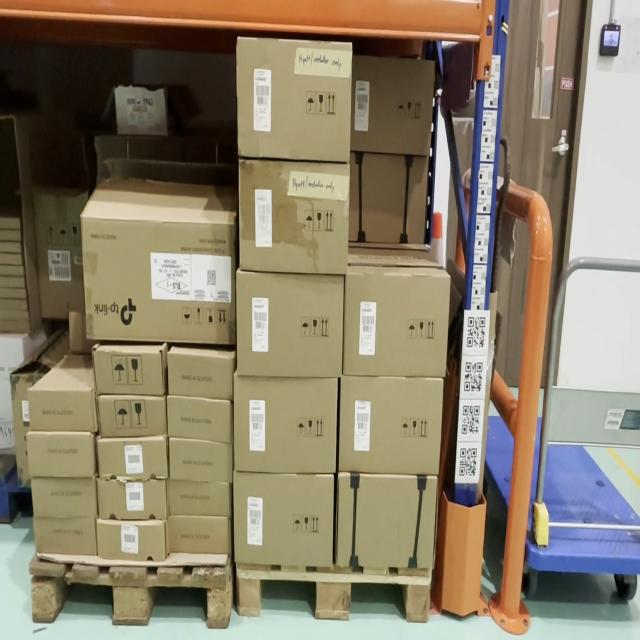box: (87, 216, 234, 342), (239, 39, 348, 158), (240, 165, 347, 269), (340, 376, 443, 475), (238, 275, 342, 373), (346, 277, 446, 374), (235, 377, 335, 472), (337, 476, 437, 568), (350, 55, 434, 153), (235, 478, 332, 561), (349, 152, 428, 243), (93, 353, 163, 396), (98, 437, 167, 480), (96, 396, 166, 437), (167, 397, 232, 441), (28, 434, 93, 478), (98, 479, 167, 520), (28, 391, 96, 431), (97, 520, 166, 559), (169, 354, 232, 396), (169, 440, 232, 481), (31, 478, 96, 517), (115, 85, 167, 133), (168, 518, 231, 555), (33, 519, 97, 555), (168, 481, 230, 517)
